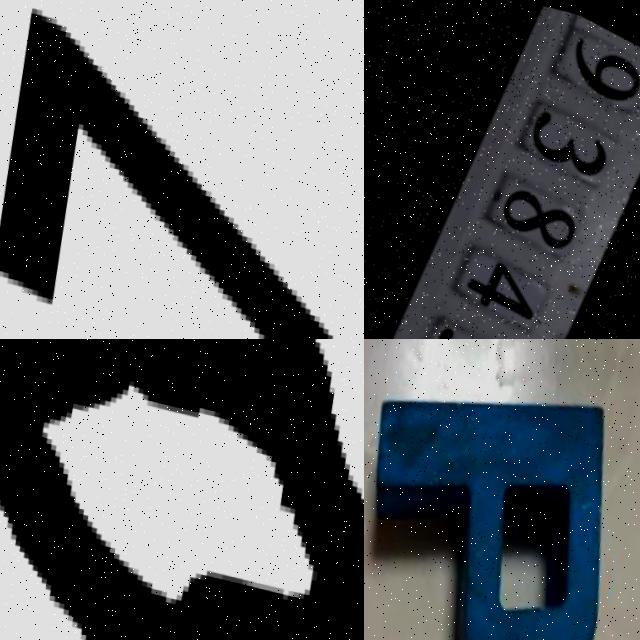3: (516, 92, 624, 185), (417, 308, 526, 339)
4: (451, 237, 557, 330)
8: (486, 162, 597, 256)
9: (554, 17, 640, 109)
P: (364, 355, 632, 640)
Z: (0, 0, 364, 339)
